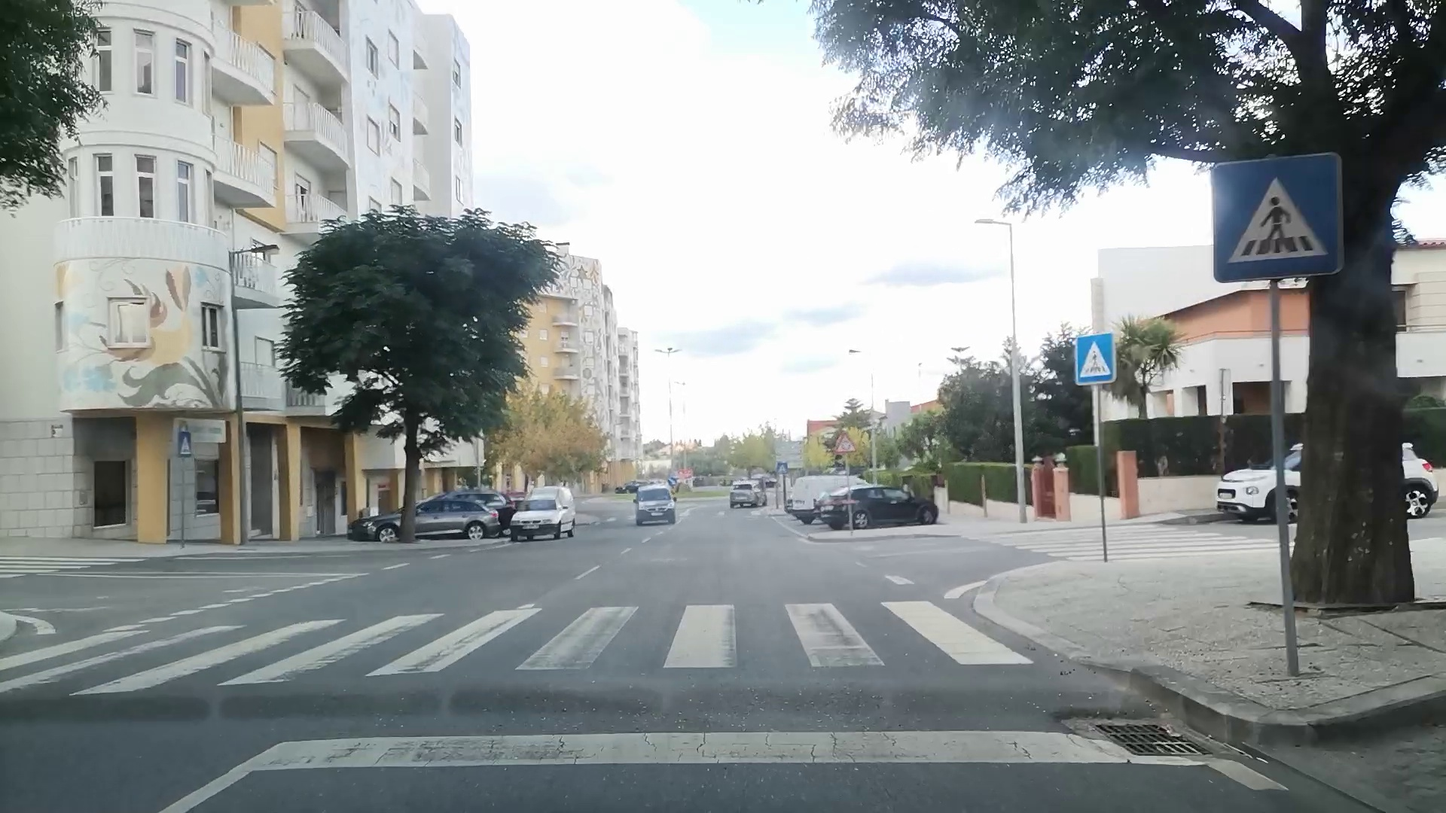Stairs: (0, 598, 1027, 679)
